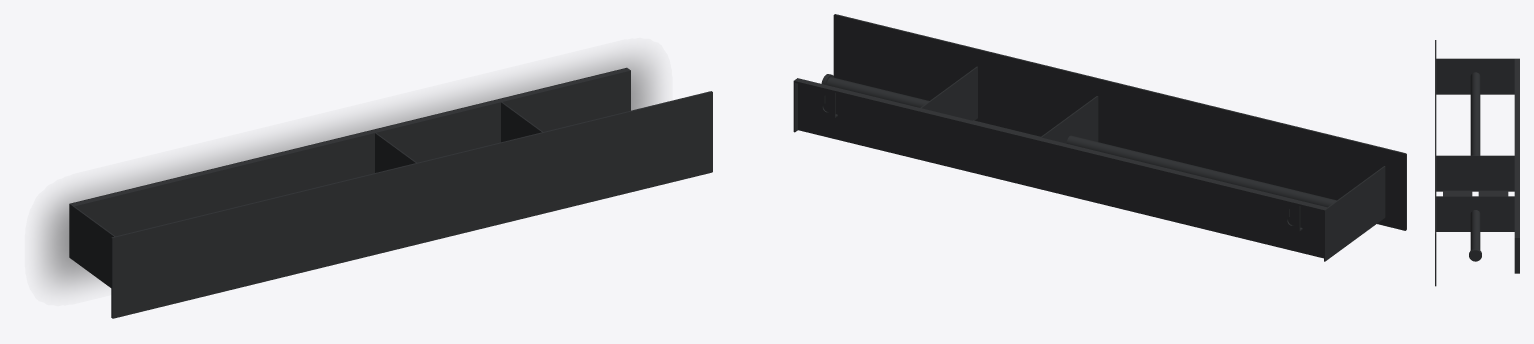
Rendered from skyline-trio.238cdffb48.ar.glb.
3 renders of one model, left to right at view 1: azimuth 30°, elevation 25°; view 2: azimuth 150°, elevation 25°; view 3: azimuth 270°, elevation 25°, orthographic. The views are drawn at different scales.
Visible parts, largest first — view 1: NAUO1, object 2; view 2: NAUO1; view 3: NAUO1.
Part boxes in pixels (x1=…): NAUO1: x1=69, y1=67, x2=712, y2=318; object 2: x1=41, y1=57, x2=656, y2=286; NAUO1: x1=793, y1=14, x2=1406, y2=261; NAUO1: x1=1435, y1=40, x2=1519, y2=286.
Size of the model in its own units: 0.78 by 0.17 by 0.13.
2 materials, 1 textured.
